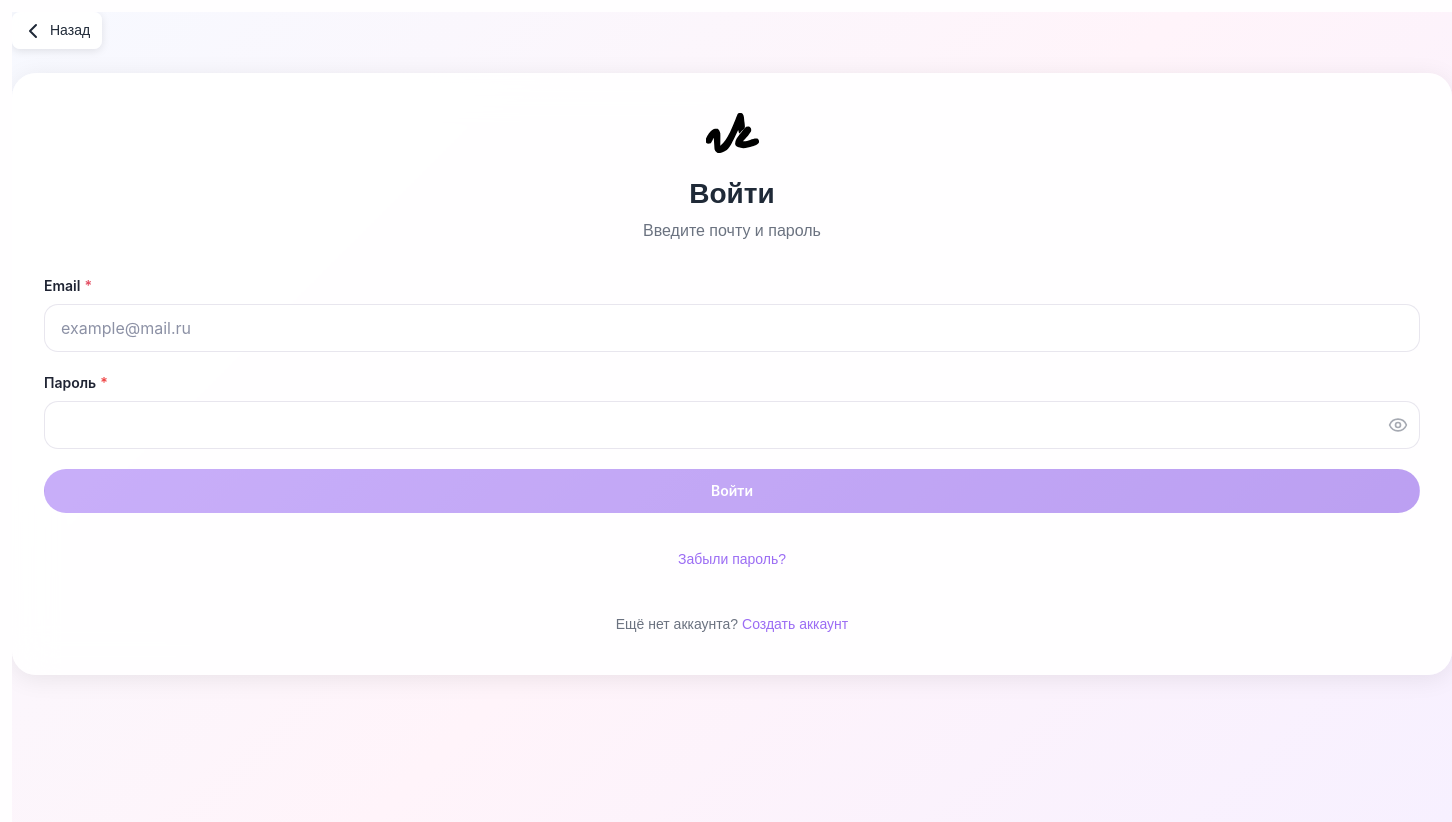
AuthForm › shows validation error for empty password
Type "user@example.com" into the field with placeholder "example@mail.ru" at (732, 328), box [44,304,1420,352]
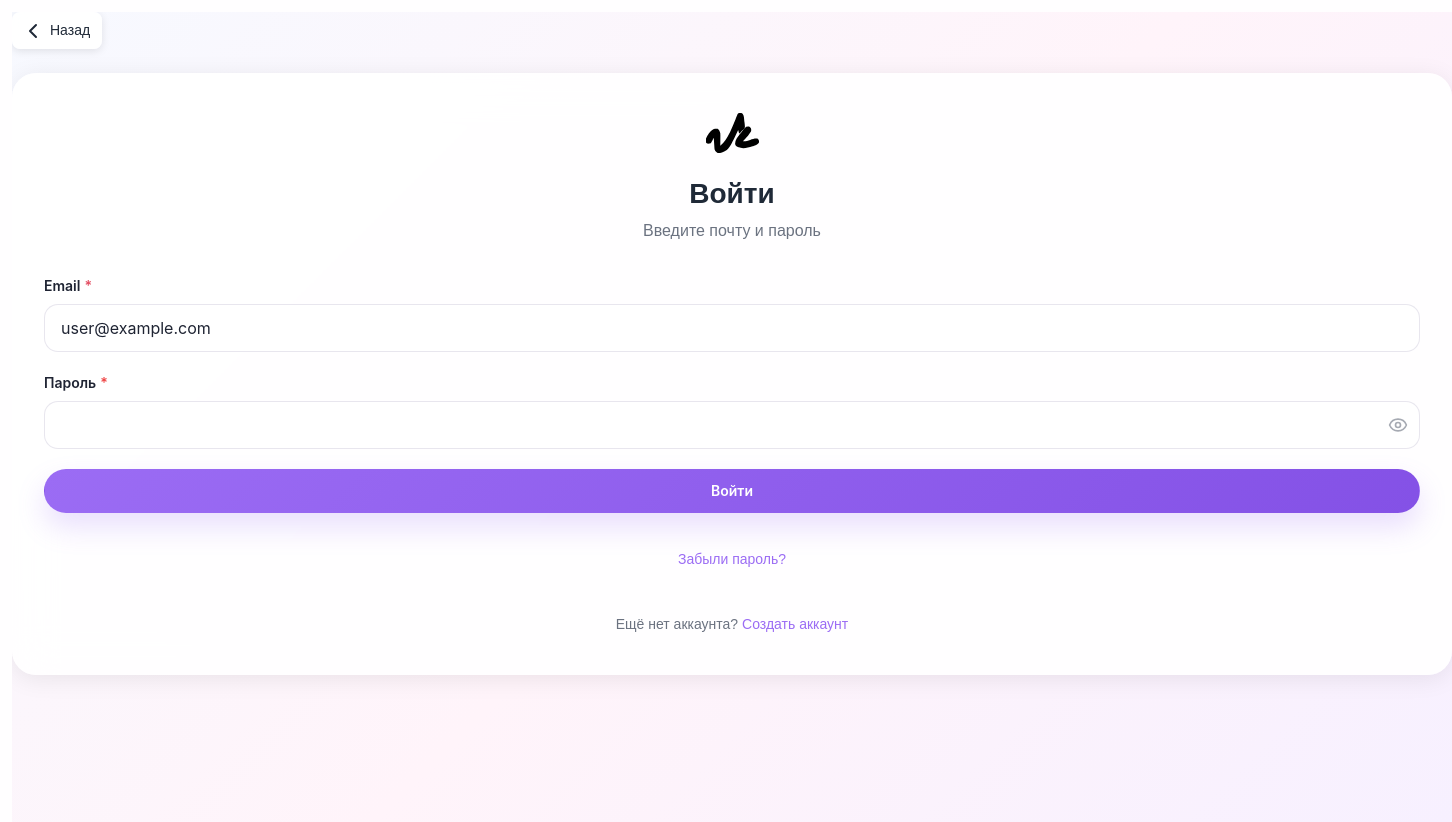
Click the button "Войти" at (732, 491), box [44,469,1420,513]
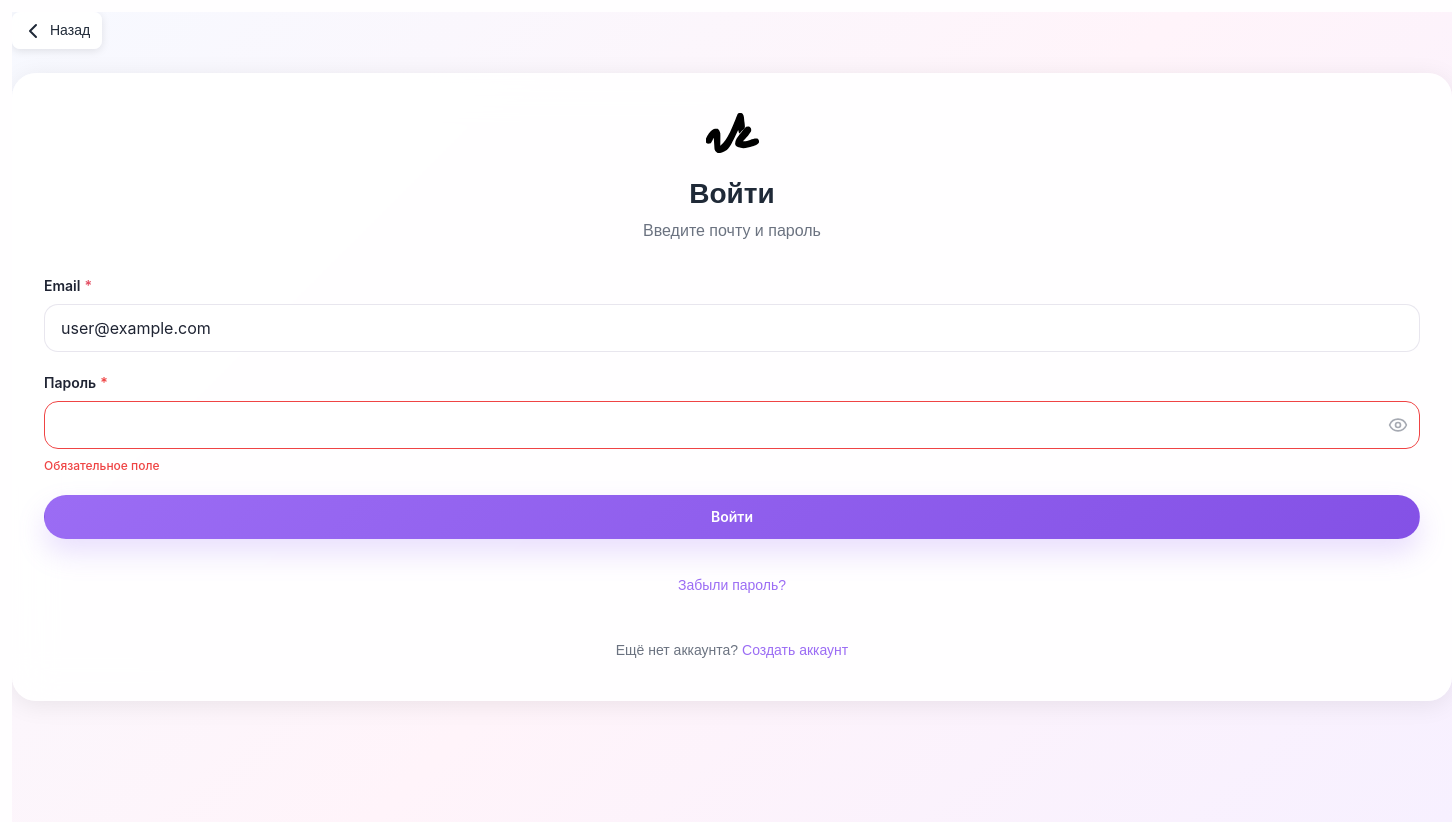
Check: the text "Обязательное поле" is shown, box [44,458,160,473]
